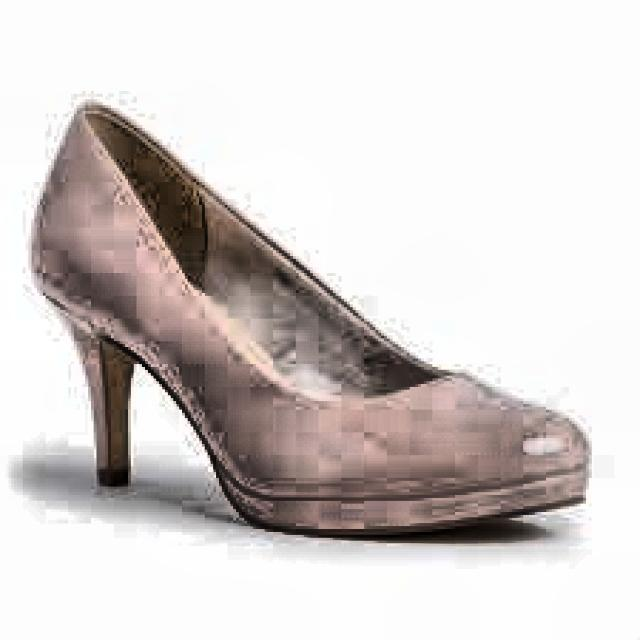shoes: (24, 82, 626, 571)
